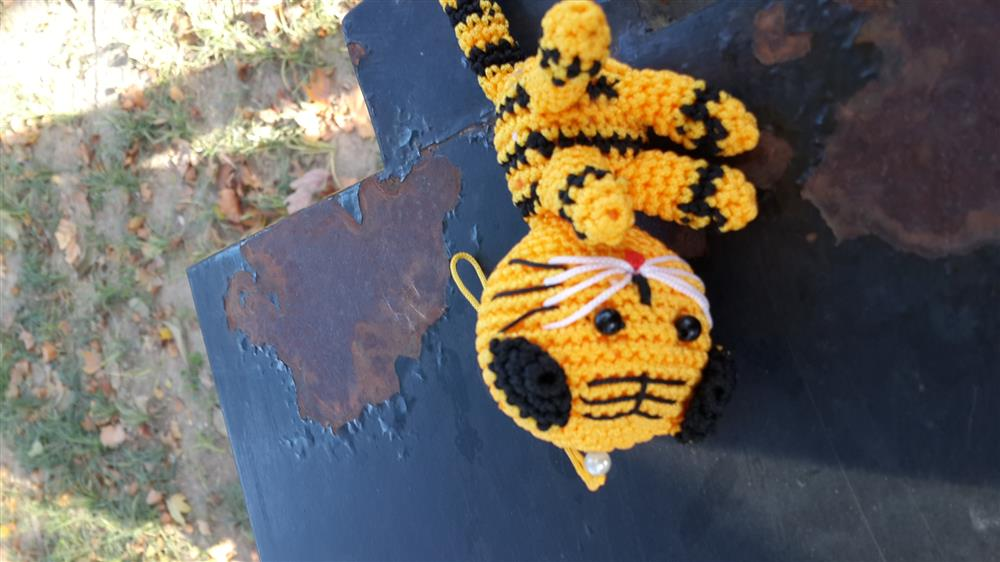toy_tiger: (435, 0, 761, 453)
